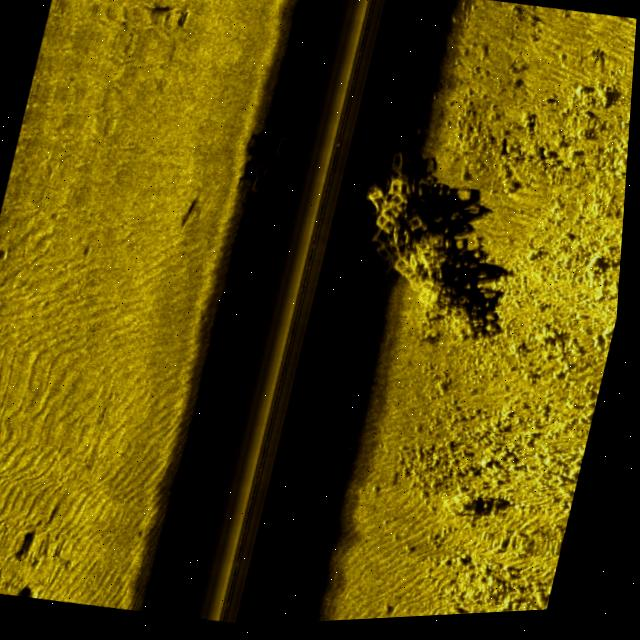artificial reef: (336, 151, 501, 342), (243, 123, 309, 220)
